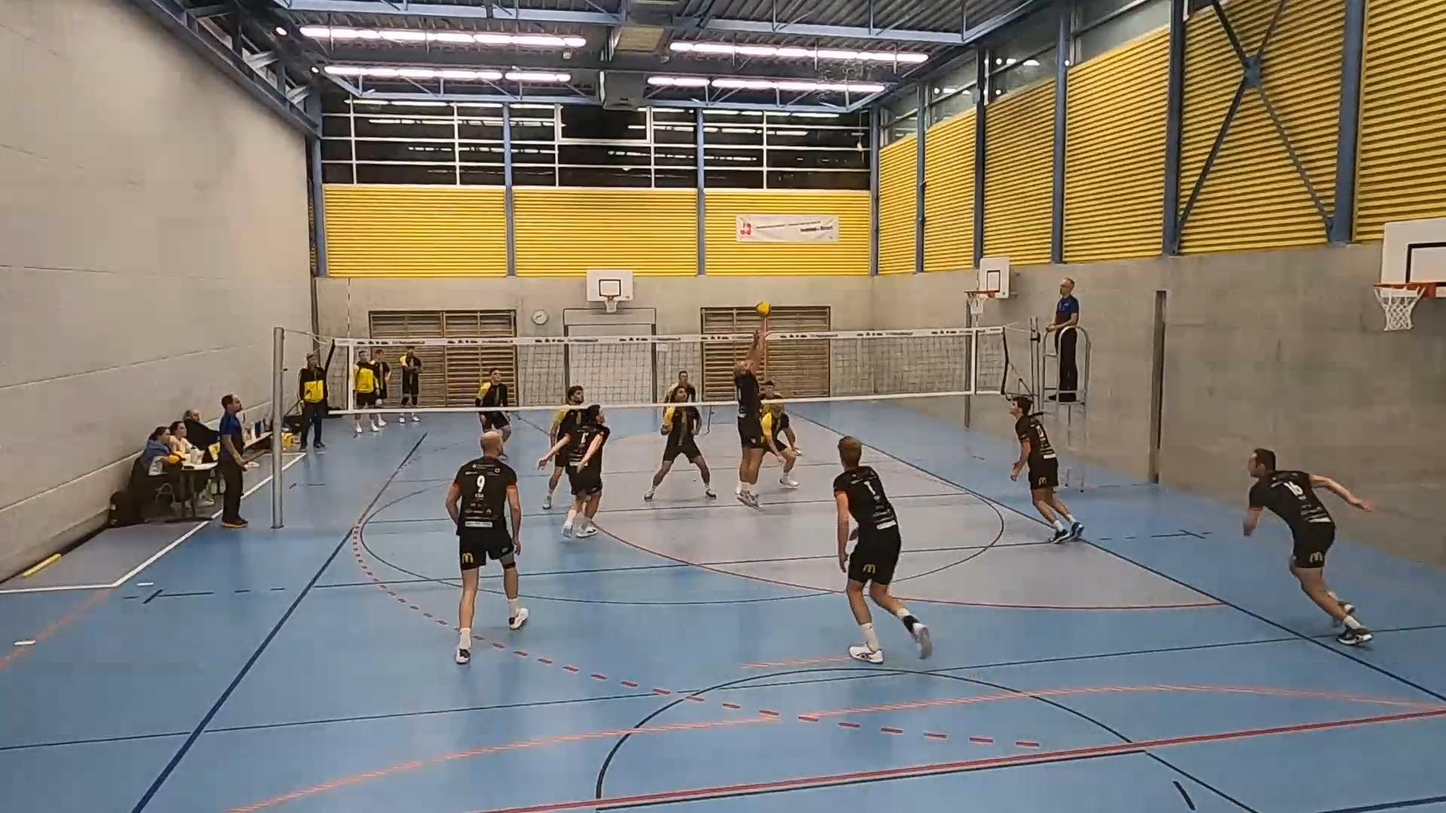alzata: (727, 337, 777, 509)
